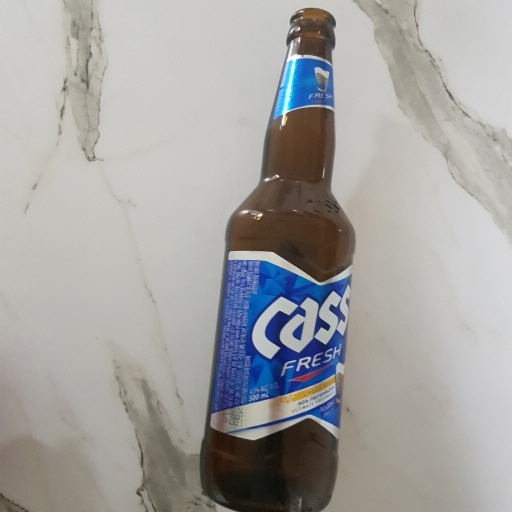Glass_1: (202, 1, 361, 512)
